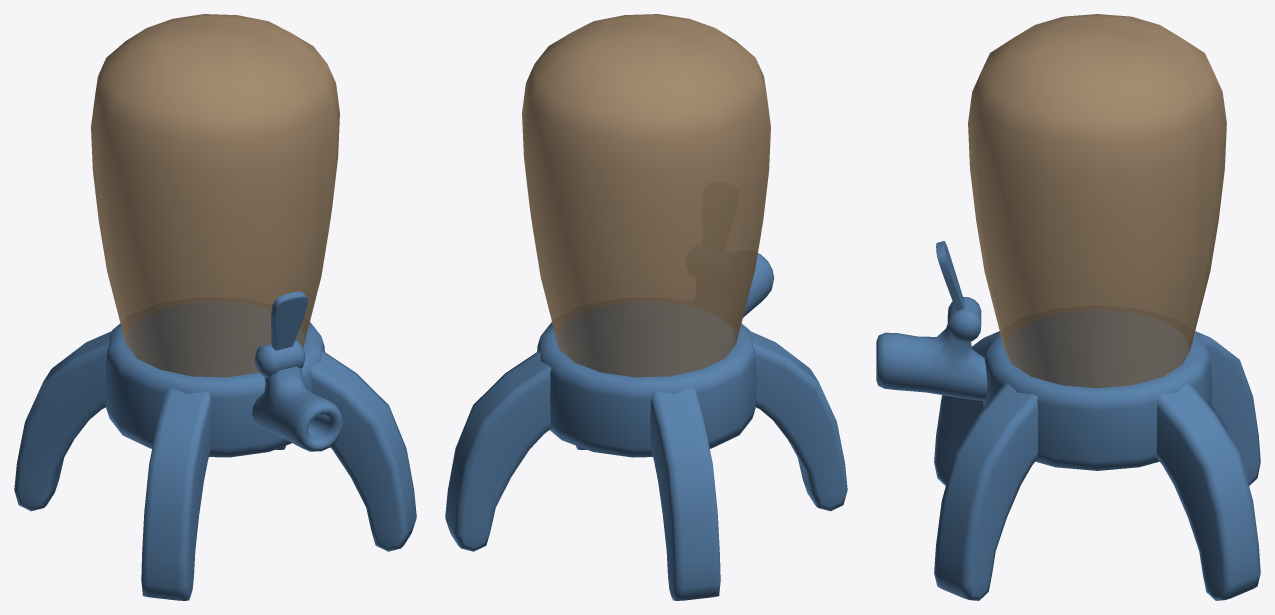
File: Appliance_WaterCooler_Alpha.fbx
3 views of the same model, side by side, from view 1: azimuth 30°, elevation 25°; view 2: azimuth 150°, elevation 25°; view 3: azimuth 270°, elevation 25° (orthographic). The views are drawn at different scales.
Visible parts, largest first — view 1: Base, Tap; view 2: Base; view 3: Base, Tap.
Part boxes in pixels (left/top/right/bottom): Base: left=14, top=14, right=416, bottom=600; Tap: left=271, top=291, right=307, bottom=350; Base: left=445, top=14, right=847, bottom=600; Base: left=876, top=14, right=1260, bottom=600; Tap: left=936, top=241, right=964, bottom=310.
Size of the model in its own units: 82.34 by 140 by 96.93.
